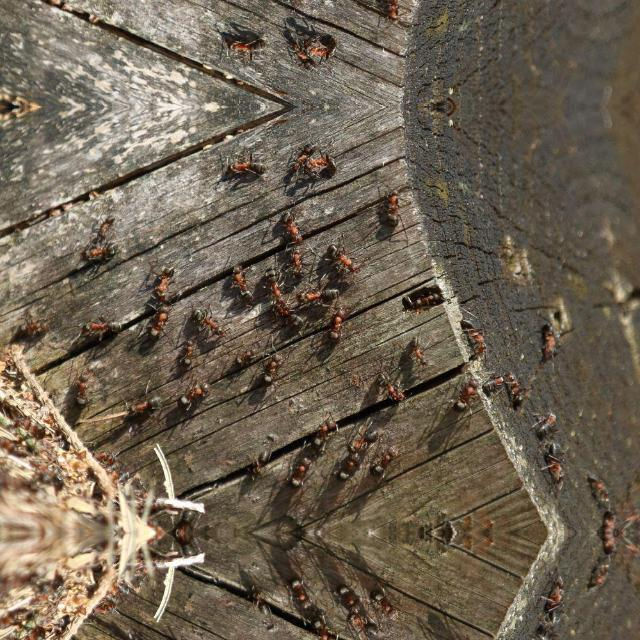Formica: (452, 301, 496, 357), (222, 251, 260, 309), (275, 197, 315, 249), (378, 183, 416, 230), (292, 272, 336, 312), (538, 316, 572, 366), (124, 382, 166, 422), (572, 461, 612, 503), (572, 562, 612, 604), (74, 310, 128, 340), (173, 376, 213, 416), (543, 441, 575, 491), (543, 574, 575, 624), (328, 576, 362, 622), (270, 293, 306, 335), (328, 444, 362, 488), (448, 371, 480, 415), (375, 367, 409, 408), (528, 406, 566, 442), (404, 330, 438, 370), (330, 241, 372, 273), (64, 360, 90, 410), (144, 306, 172, 352), (17, 308, 57, 340), (280, 135, 312, 173), (280, 39, 312, 77), (369, 440, 399, 480), (369, 585, 399, 625), (282, 240, 314, 276), (147, 261, 179, 297), (284, 454, 312, 494), (284, 571, 312, 611), (191, 304, 223, 338), (88, 598, 120, 630), (260, 257, 282, 303), (303, 148, 345, 172), (378, 0, 414, 28), (504, 364, 526, 408), (303, 41, 345, 64), (168, 506, 205, 532), (168, 533, 205, 559), (324, 306, 348, 346), (312, 413, 336, 453), (88, 436, 120, 466), (173, 329, 194, 373), (262, 349, 286, 385), (227, 152, 259, 178), (227, 34, 259, 60), (87, 240, 121, 262), (234, 339, 260, 367), (480, 370, 508, 396), (344, 616, 374, 640), (245, 447, 268, 477), (245, 588, 268, 618), (346, 424, 374, 448), (528, 622, 564, 640), (93, 214, 119, 238), (312, 612, 334, 640), (600, 508, 624, 532), (600, 533, 624, 557), (275, 0, 315, 14)
